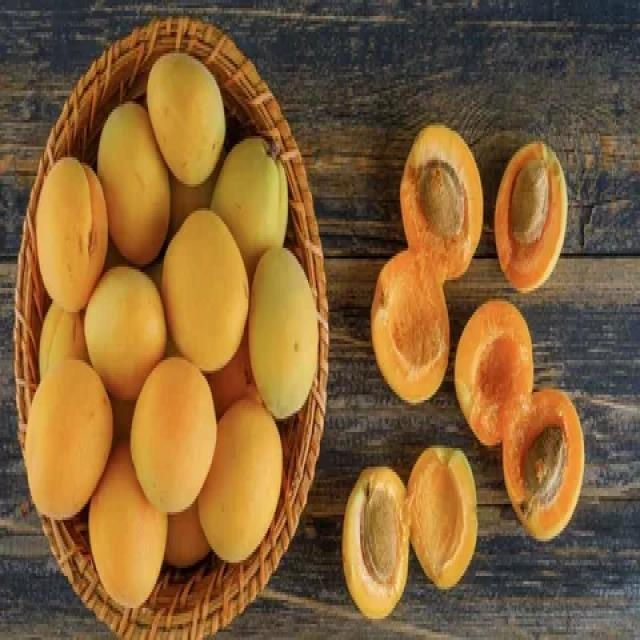Cekirdek: (417, 160, 464, 235)
Kayisi: (371, 248, 448, 397)
